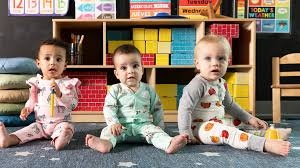baby: (178, 35, 290, 155), (85, 44, 187, 152), (0, 38, 80, 149)
